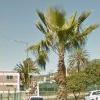Palm tree: (29, 4, 91, 99)
